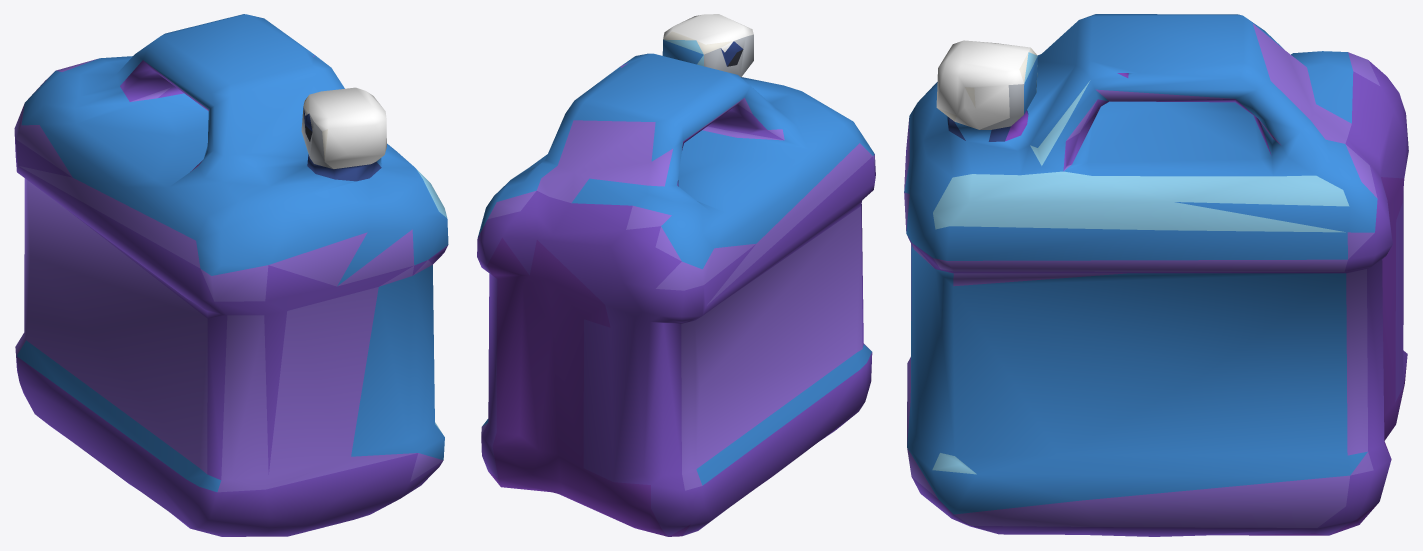
File: SM_jerrycan_blue.glb
The picture shows the model from 3 angles, left to right: view 1: azimuth 30°, elevation 25°; view 2: azimuth 150°, elevation 25°; view 3: azimuth 270°, elevation 25°; orthographic projection. The views are drawn at different scales.
Parts seen in each view (by area): view 1: SM_jerrycan_blue; view 2: SM_jerrycan_blue; view 3: SM_jerrycan_blue.
Boxes of the visible parts, x1,y1,x2,y2 form: SM_jerrycan_blue: [14, 14, 448, 536]; SM_jerrycan_blue: [477, 14, 875, 536]; SM_jerrycan_blue: [904, 14, 1408, 536].
Size of the model in its own units: 0.2846 by 0.45 by 0.4506.
1 material, 1 textured.
